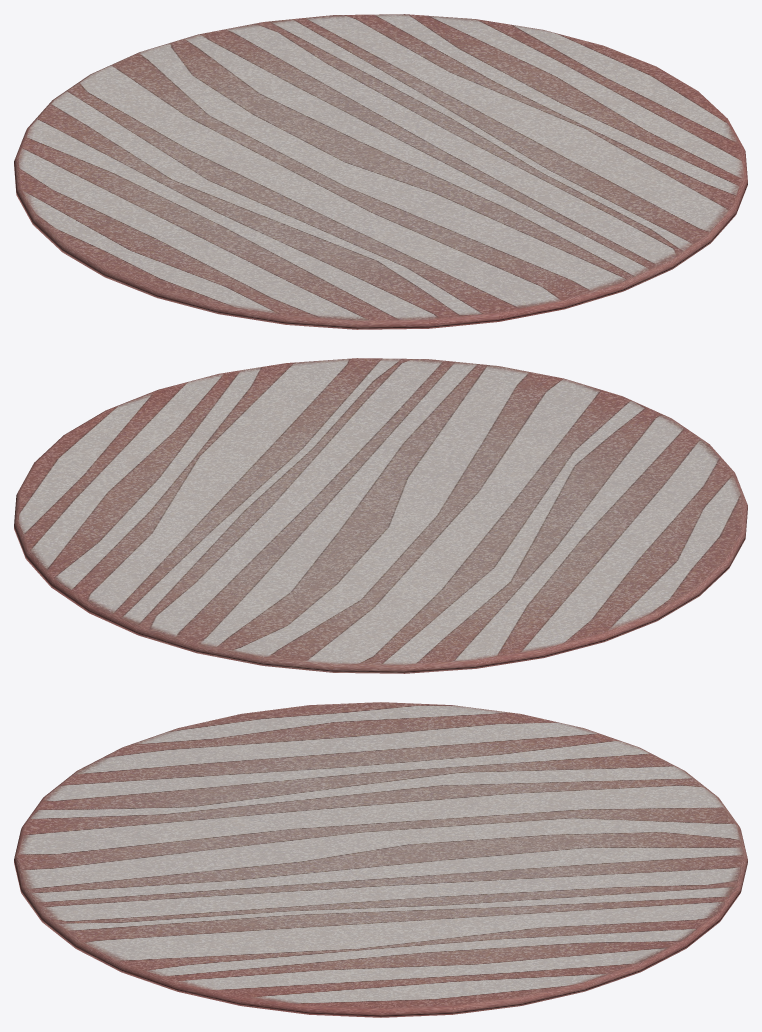
Rendered from cercle_carpet.fbx.
3 views of the same model, one above another, from view 1: azimuth 30°, elevation 25°; view 2: azimuth 150°, elevation 25°; view 3: azimuth 270°, elevation 25° (orthographic).
Parts seen in each view (by area): view 1: Cylinder; view 2: Cylinder; view 3: Cylinder.
Boxes of the visible parts, <box> form: Cylinder: <box>14,14,747,329</box>; Cylinder: <box>14,358,747,673</box>; Cylinder: <box>14,702,747,1017</box>.
Size of the model in its own units: 746 by 8.45 by 746.
